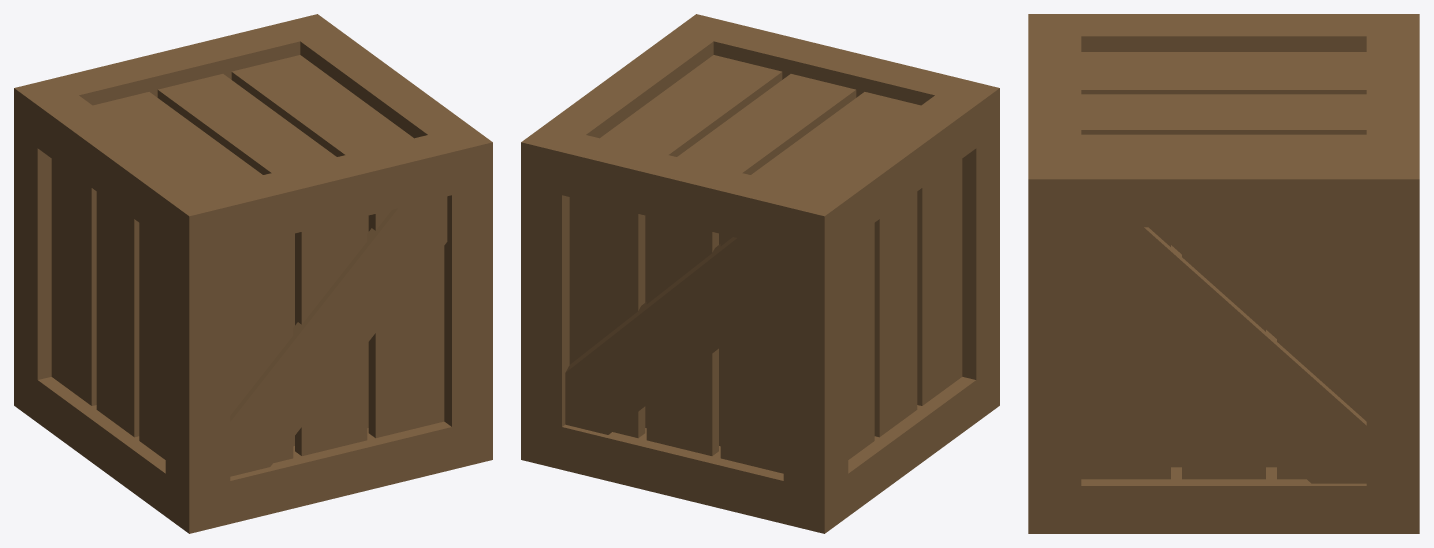
File: Wooden Crate_Untextured.fbx
3 renders of one model, left to right at view 1: azimuth 30°, elevation 25°; view 2: azimuth 150°, elevation 25°; view 3: azimuth 270°, elevation 25°, orthographic. The views are drawn at different scales.
Parts seen in each view (by area): view 1: Cube; view 2: Cube; view 3: Cube.
Boxes of the visible parts, x1,y1,x2,y2 form: Cube: (14,14,492,533); Cube: (521,14,999,533); Cube: (1028,14,1419,533).
Size of the model in its own units: 200 by 200 by 200.
